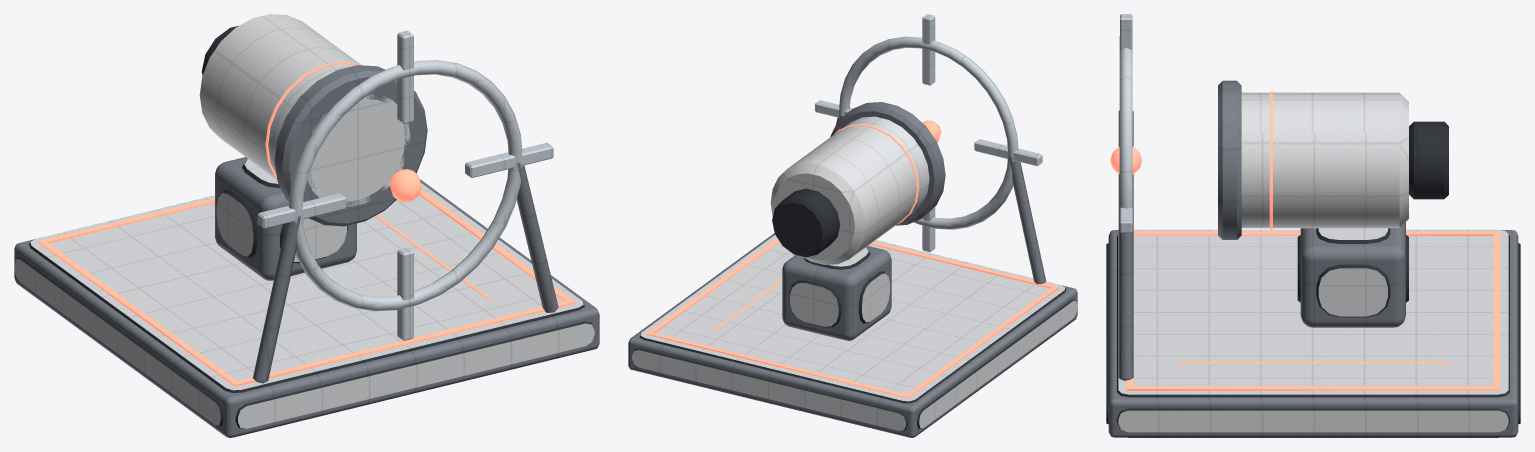
File: R4X_WeakPointScanner.glb
3 renders of one model, left to right at view 1: azimuth 30°, elevation 25°; view 2: azimuth 150°, elevation 25°; view 3: azimuth 270°, elevation 25°, orthographic. The views are drawn at different scales.
Visible parts, largest first — view 1: R4X_WeakPointScanner_Body; view 2: R4X_WeakPointScanner_Body; view 3: R4X_WeakPointScanner_Body.
Part boxes in pixels (bbox=[...]): R4X_WeakPointScanner_Body: bbox=[14, 14, 599, 437]; R4X_WeakPointScanner_Body: bbox=[628, 14, 1077, 437]; R4X_WeakPointScanner_Body: bbox=[1106, 14, 1520, 437].
Bounding box in the file's own units: 0.52 × 0.47 × 0.52.
Materials: 5 (4 with a texture image).
